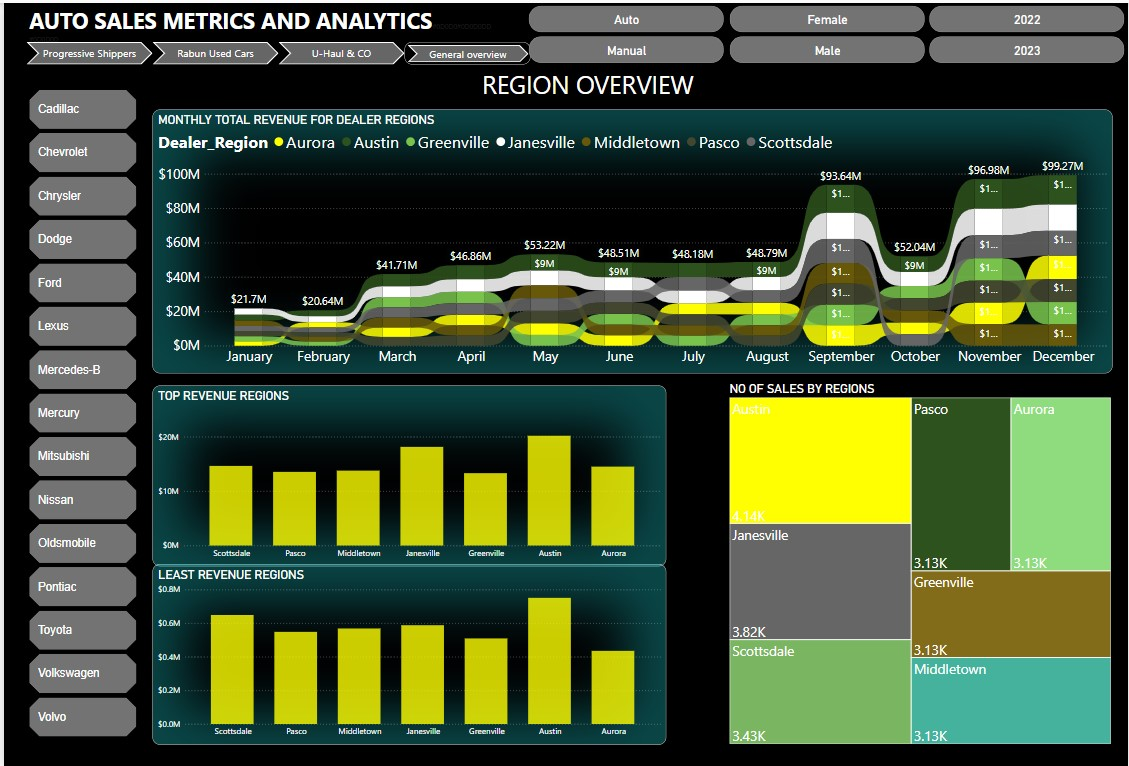

The page's visual inventory and layout, read from the dashboard file:
{"tool":"powerbi","page":{"name":"REGION ANALYSIS","canvas":[2200,1500],"ordinal":1},"visuals":[{"type":"ribbonChart","title":"MONTHLY TOTAL REVENUE FOR DEALER REGIONS","fields":{"Category":["CAR_SALES.Date.Variation.Date Hierarchy.Month"],"Y":["Sum(CAR_SALES.Price)"],"Series":["CAR_SALES.Dealer_Region"]},"box":[290.8,208.6,1879.9,517],"z":0},{"type":"clusteredColumnChart","title":"TOP REVENUE REGIONS","fields":{"Y":["Sum(CAR_SALES.Price)"],"Category":["CAR_SALES.Dealer_Region"]},"box":[292,749.6,1005.9,353.7],"z":1000},{"type":"clusteredColumnChart","title":"LEAST REVENUE REGIONS","fields":{"Y":["Sum(CAR_SALES.Price)"],"Category":["CAR_SALES.Dealer_Region"]},"box":[292,1100,1005.9,353.7],"z":2000},{"type":"textbox","box":[44.1,0,957.6,96.9],"z":3000},{"type":"advancedSlicerVisual","fields":{"Values":["CAR_SALES.Company"]},"box":[45.4,165.5,220.6,1291.4],"z":4000},{"type":"actionButton","box":[43.9,76.8,246.7,43.9],"z":5000},{"type":"actionButton","box":[290.6,76.8,246.7,43.9],"z":6000},{"type":"actionButton","box":[537.3,76.8,246.7,43.9],"z":7000},{"type":"actionButton","box":[784.1,76.8,246.7,43.9],"z":8000},{"type":"advancedSlicerVisual","fields":{"Values":["CAR_SALES.Date.Variation.Date Hierarchy.Year"]},"box":[1807.4,0,392.6,123.3],"z":9000},{"type":"advancedSlicerVisual","fields":{"Values":["CAR_SALES.Gender"]},"box":[1414.7,0,392.6,123.3],"z":10000},{"type":"advancedSlicerVisual","fields":{"Values":["CAR_SALES.Transmission"]},"box":[1022.1,0,392.6,123.3],"z":11000},{"type":"treemap","title":"NO OF SALES BY REGIONS","fields":{"Group":["CAR_SALES.Dealer_Region"],"Values":["CountNonNull(CAR_SALES.Price)"]},"box":[1415.6,740.6,756.2,715.6],"z":12000},{"type":"textbox","box":[931.2,121.9,471.9,75],"z":13000}]}

Visuals, with their boxes in screenshot pixels (x1, y1, x2, y2), scaled from the page's 2200x1500 canvas onto the 1129x766 screenshot:
"MONTHLY TOTAL REVENUE FOR DEALER REGIONS" ribbonChart: bbox=(149, 107, 1114, 371)
"TOP REVENUE REGIONS" clusteredColumnChart: bbox=(150, 383, 666, 563)
"LEAST REVENUE REGIONS" clusteredColumnChart: bbox=(150, 562, 666, 742)
textbox: bbox=(23, 0, 514, 49)
advancedSlicerVisual - CAR_SALES.Company: bbox=(23, 85, 137, 744)
actionButton: bbox=(23, 39, 149, 62)
actionButton: bbox=(149, 39, 276, 62)
actionButton: bbox=(276, 39, 402, 62)
actionButton: bbox=(402, 39, 529, 62)
advancedSlicerVisual - CAR_SALES.Date.Variation.Date Hierarchy.Year: bbox=(928, 0, 1128, 63)
advancedSlicerVisual - CAR_SALES.Gender: bbox=(726, 0, 927, 63)
advancedSlicerVisual - CAR_SALES.Transmission: bbox=(525, 0, 726, 63)
"NO OF SALES BY REGIONS" treemap: bbox=(726, 378, 1115, 744)
textbox: bbox=(478, 62, 720, 101)
